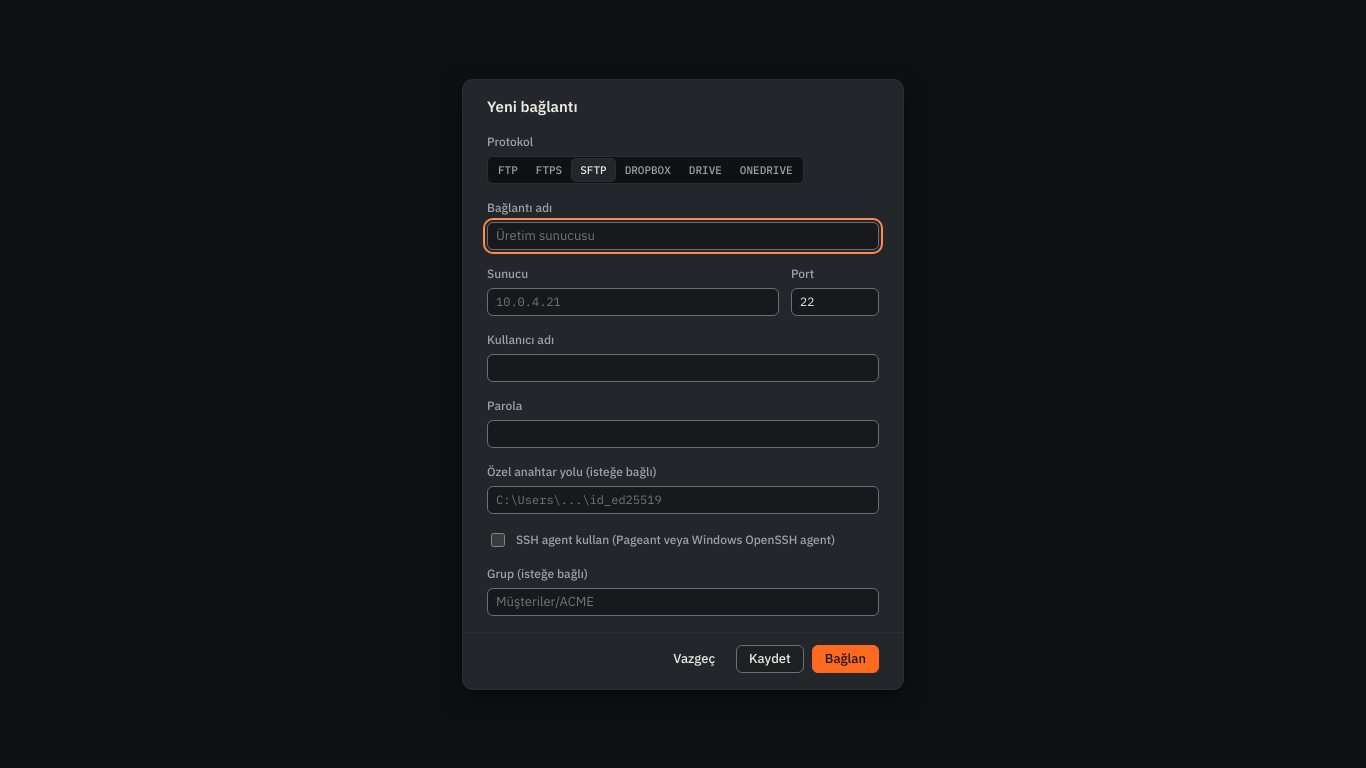
Scenario: ConnectionModal › validates required fields before connecting
This screenshot has width=1366, height=768.
Click the button "Bağlan".
click(845, 658)  # box [812,644,879,672]
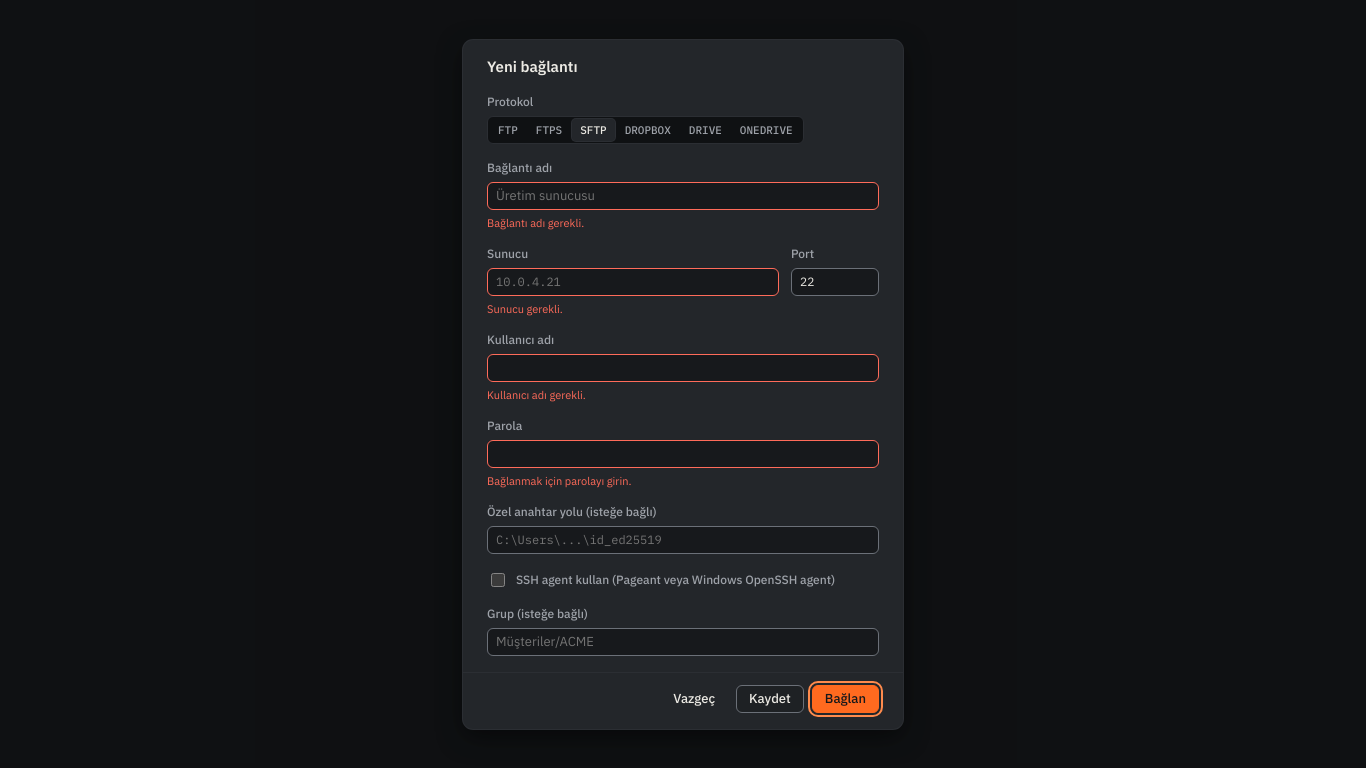
Check: the text "Bağlantı adı gerekli." is shown, box [487,216,584,230]
Check: the text "Sunucu gerekli." is shown, box [487,302,563,316]
Check: the text "Bağlanmak için parolayı girin." is shown, box [487,474,631,488]
